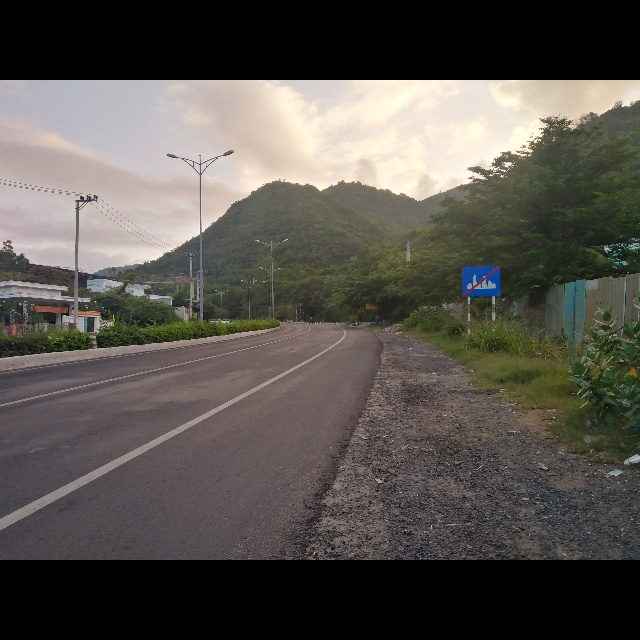Hết khu đông dân cư: (462, 265, 503, 299)
